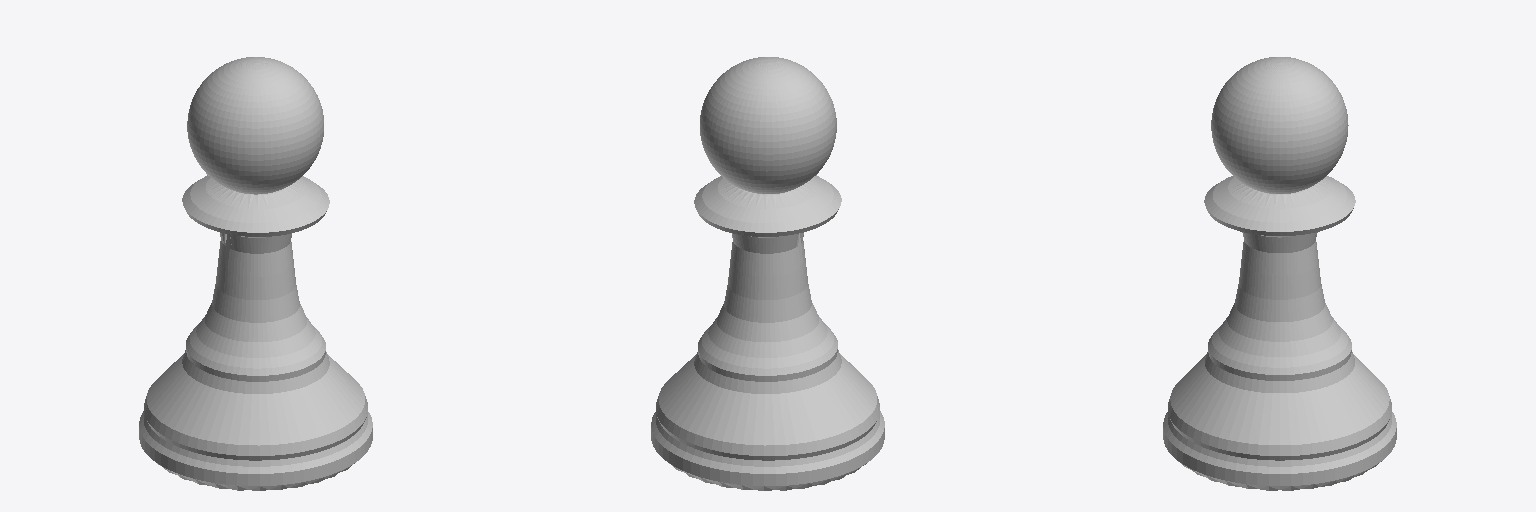
The model's file is lowploycountpawn.obj.
3 views of the same model, side by side, from view 1: azimuth 30°, elevation 25°; view 2: azimuth 150°, elevation 25°; view 3: azimuth 270°, elevation 25° (orthographic).
Visible parts, largest first — view 1: Cylinder; view 2: Cylinder; view 3: Cylinder.
Part boxes in pixels (x1,y1,x2,y2): Cylinder: (139, 57, 372, 490); Cylinder: (651, 57, 884, 490); Cylinder: (1163, 57, 1396, 490).
Bounding box in the file's own units: 1.99 × 3.63 × 1.99.